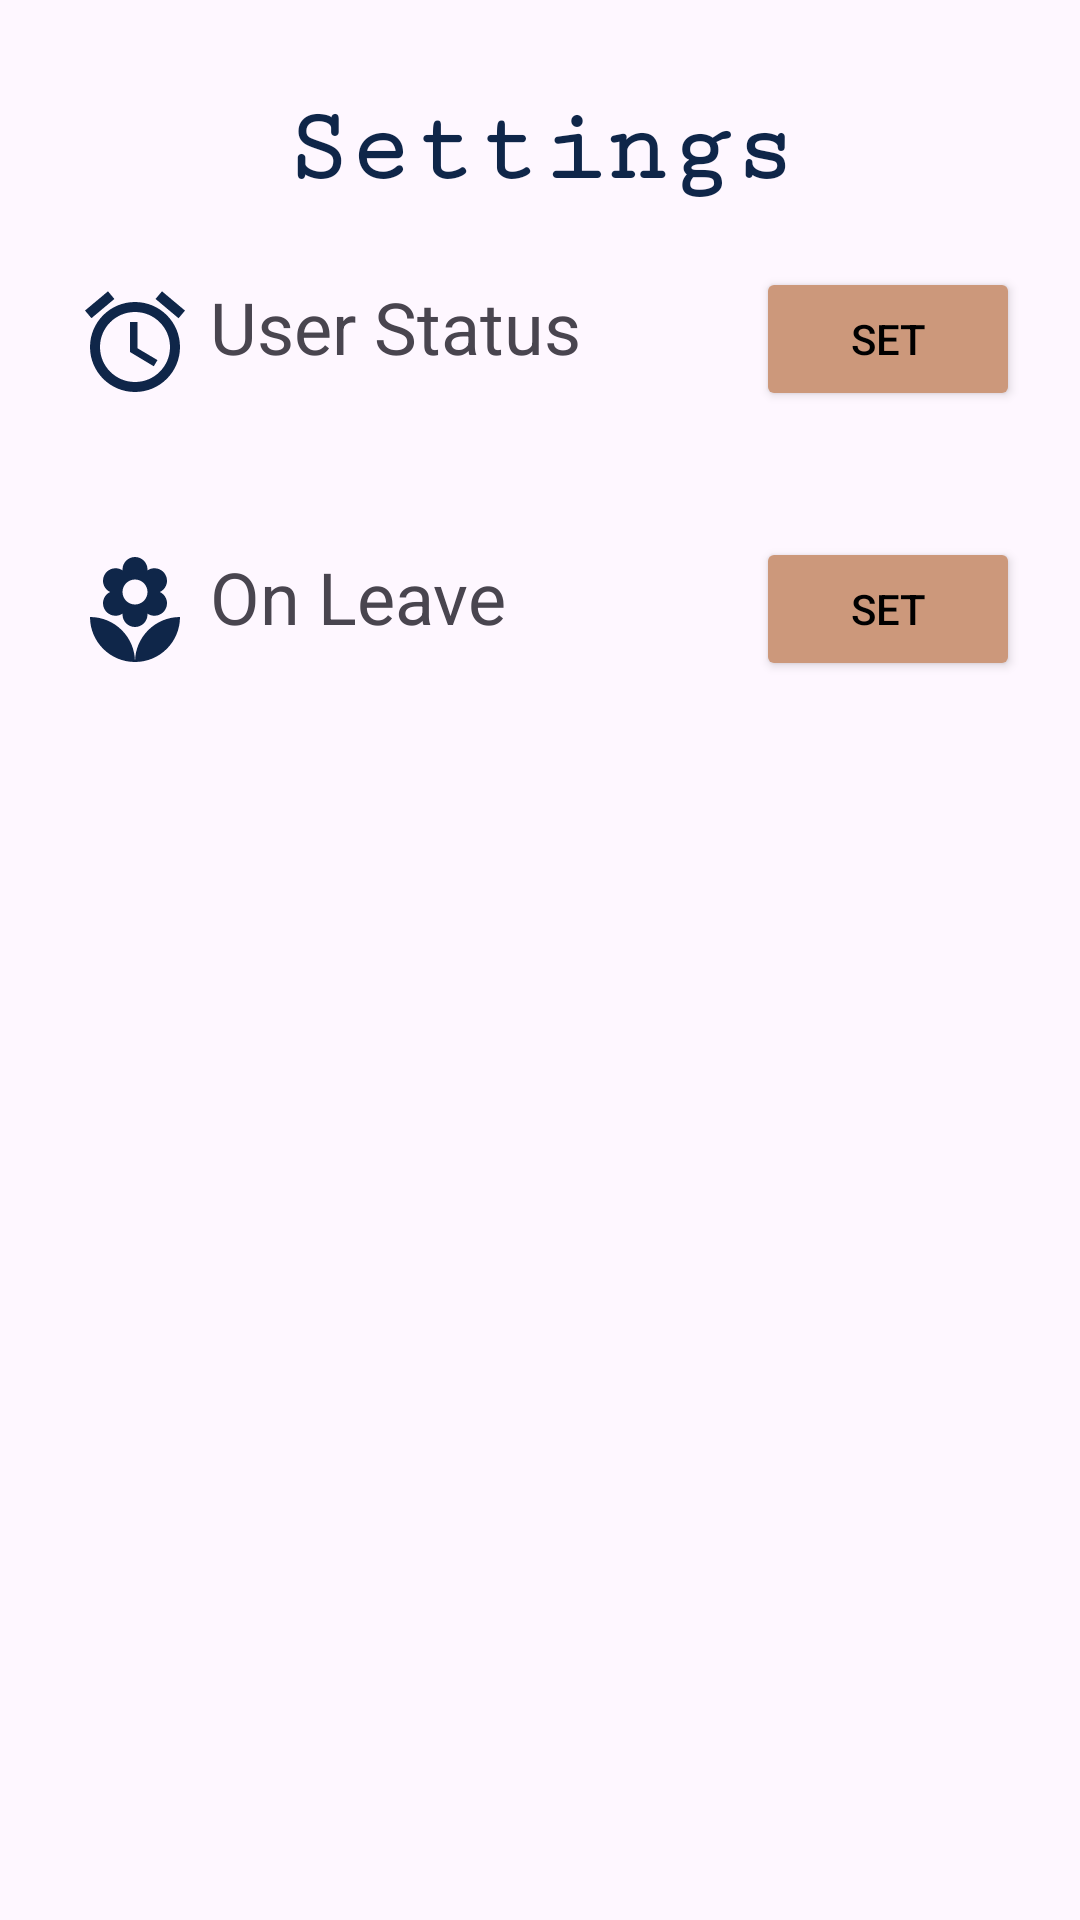

Locate icon controls on the screen. Image size 1080px×1920px, boxes as [left=x1, top=y1, right=x2, bottom=y2].
alarm: [left=85, top=291, right=185, bottom=392]
